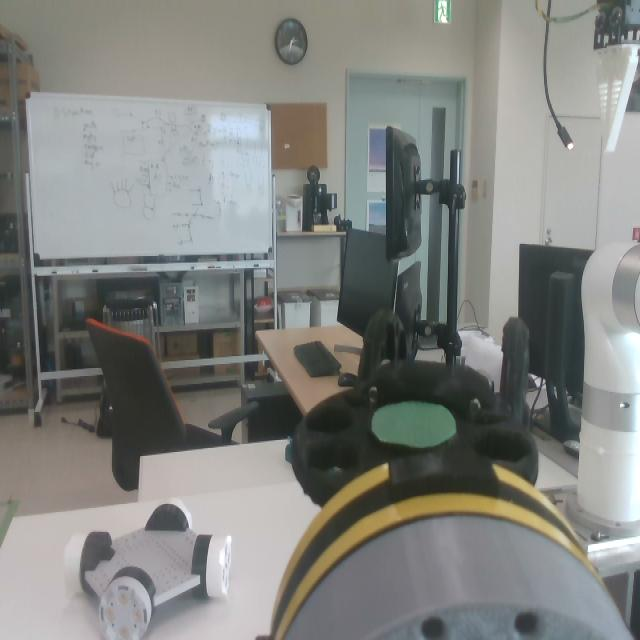body_connector: (281, 516, 640, 640)
connection: (266, 454, 640, 640)
leg: (265, 309, 595, 640)
leg_connector: (264, 452, 599, 640)
marker: (369, 400, 457, 447)
